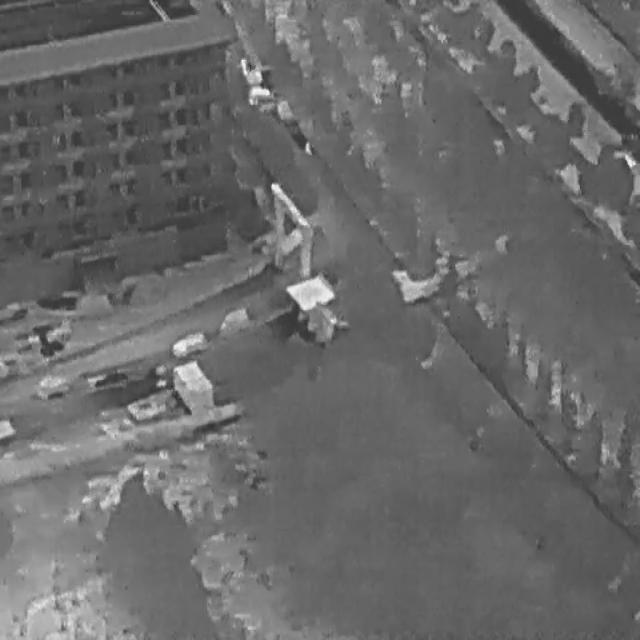Person: (304, 138, 312, 152)
